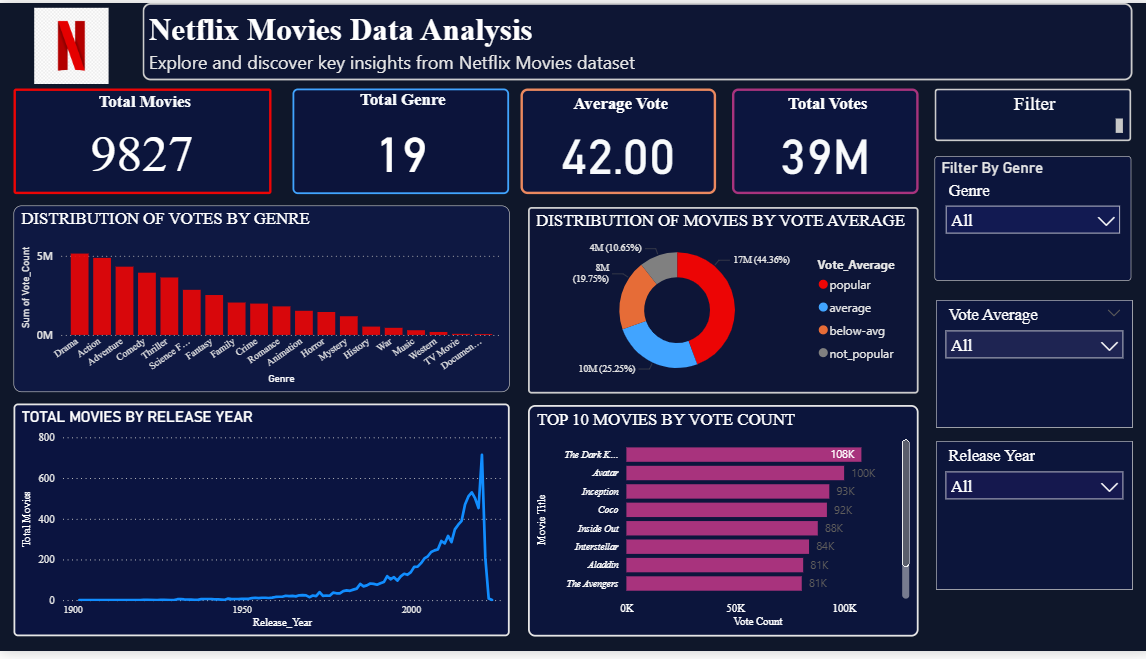

What the dashboard file says about the page in this screenshot:
{"tool":"powerbi","page":{"name":"Page 1","canvas":[1280,720],"ordinal":0},"visuals":[{"type":"card","title":"Total Genre","fields":{"Values":["Count(cleaned_netflix_data.Genre)"]},"box":[324.5,94.5,240.9,117.3],"z":0},{"type":"textbox","title":"Netflix Movies Data Analysis","box":[158,0,1100,86],"z":1000},{"type":"card","title":"Total Movies","fields":{"Values":["cleaned_netflix_data.Total Movies"]},"box":[15.5,94.5,286.4,117.3],"z":2000},{"type":"card","title":"Average Vote","fields":{"Values":["Avg(cleaned_netflix_data.Popularity)"]},"box":[578.2,94.5,217.3,117.3],"z":3000},{"type":"card","title":"Total Votes","fields":{"Values":["Sum(cleaned_netflix_data.Vote_Count)"]},"box":[812.7,94.5,207.3,117.3],"z":4000},{"type":"columnChart","title":"DISTRIBUTION OF VOTES BY GENRE","fields":{"Category":["cleaned_netflix_data.Genre"],"Y":["Sum(cleaned_netflix_data.Vote_Count)"]},"box":[14.3,225.7,551.4,207.1],"z":5000},{"type":"donutChart","title":"DISTRIBUTION OF MOVIES BY VOTE AVERAGE","fields":{"Category":["cleaned_netflix_data.Vote_Average"],"Y":["Sum(cleaned_netflix_data.Vote_Count)"]},"box":[586.2,226.2,433.8,207.5],"z":6000},{"type":"lineChart","title":"TOTAL MOVIES BY RELEASE YEAR","fields":{"Category":["cleaned_netflix_data.Release_Date"],"Y":["cleaned_netflix_data.Total Movies"]},"box":[14.3,445.7,551.4,258.6],"z":7000},{"type":"slicer","title":"Filter By Genre","fields":{"Values":["cleaned_netflix_data.Genre"]},"box":[1038.3,170,218.3,138.3],"z":8000},{"type":"slicer","fields":{"Values":["cleaned_netflix_data.Vote_Average"]},"box":[1040,330,218.3,141.7],"z":9000},{"type":"slicer","fields":{"Values":["cleaned_netflix_data.Release_Date"]},"box":[1040,486.7,218.3,165],"z":10000},{"type":"textbox","title":"Filter","box":[1038.3,95,218.3,58.3],"z":11000},{"type":"clusteredBarChart","title":"TOP 10 MOVIES BY VOTE COUNT","fields":{"Category":["cleaned_netflix_data.Title"],"Y":["Sum(cleaned_netflix_data.Vote_Count)"]},"box":[586.2,446.2,433.8,257.5],"z":12000},{"type":"image","box":[0,0,158.3,95],"z":13000}]}

Visuals, with their boxes in screenshot pixels (x1, y1, x2, y2), scaled from the page's 1280x720 canvas onto the 1146x659 screenshot:
"Total Genre" card: 291:86:506:194
"Netflix Movies Data Analysis" textbox: 141:0:1126:79
"Total Movies" card: 14:86:270:194
"Average Vote" card: 518:86:712:194
"Total Votes" card: 728:86:913:194
"DISTRIBUTION OF VOTES BY GENRE" columnChart: 13:207:506:396
"DISTRIBUTION OF MOVIES BY VOTE AVERAGE" donutChart: 525:207:913:397
"TOTAL MOVIES BY RELEASE YEAR" lineChart: 13:408:506:645
"Filter By Genre" slicer: 930:156:1125:282
slicer - cleaned_netflix_data.Vote_Average: 931:302:1127:432
slicer - cleaned_netflix_data.Release_Date: 931:445:1127:596
"Filter" textbox: 930:87:1125:140
"TOP 10 MOVIES BY VOTE COUNT" clusteredBarChart: 525:408:913:644
image: 0:0:142:87
